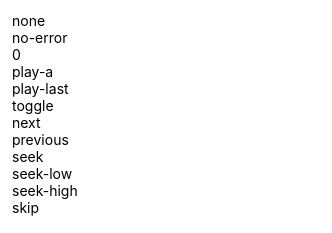
Test: FanPerformancePlayerProvider › shows a playback error when a stream replace fails
What coordinates should you click on to do the following:
click the element with test id "play-a"
I would click on:
 (33, 72)
Its box is [12,63,53,80].
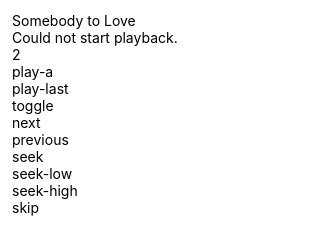
Now the text with test id "error" reads "Could not start playback.", box [12,29,178,46]
